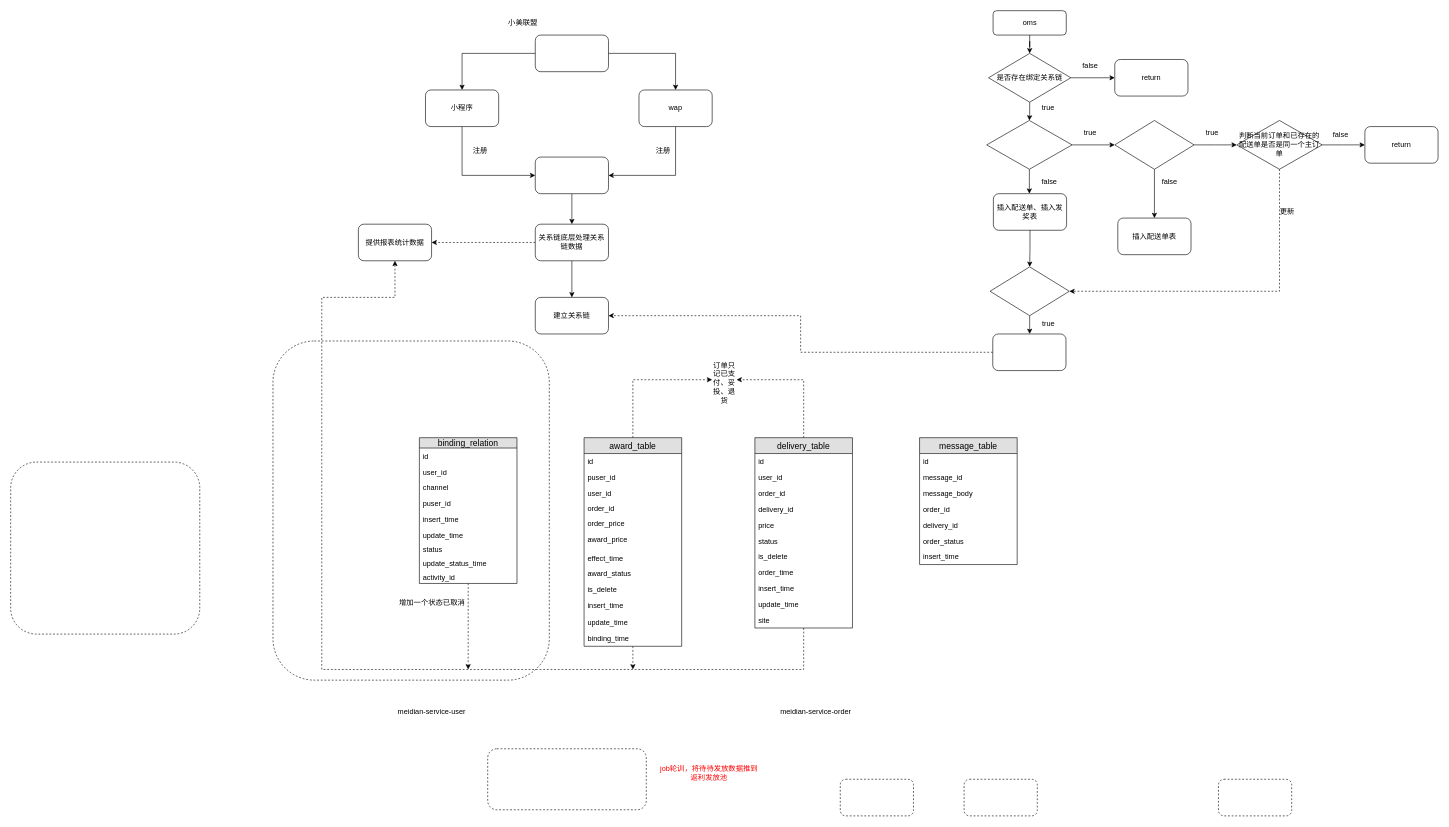
The diagram is 1449 pixels wide and 827 high, and some of its shapes have lost their labels. Each missing label, with the centre of its shape:
"activity_id stage reward begin_time end+time" goes at [105,547].
"meidian-job" goes at [566,779].
"判断已存在订单的站点是否app端" goes at [1154,144].
"扫码" goes at [571,53].
"接入层" goes at [571,175].
"更新关系表中的状态" goes at [1029,352].
"查询配送单级别的表是否存在订单" goes at [1029,144].
"订单级别判断当前订单是否大于提奖限价" goes at [1029,291].
